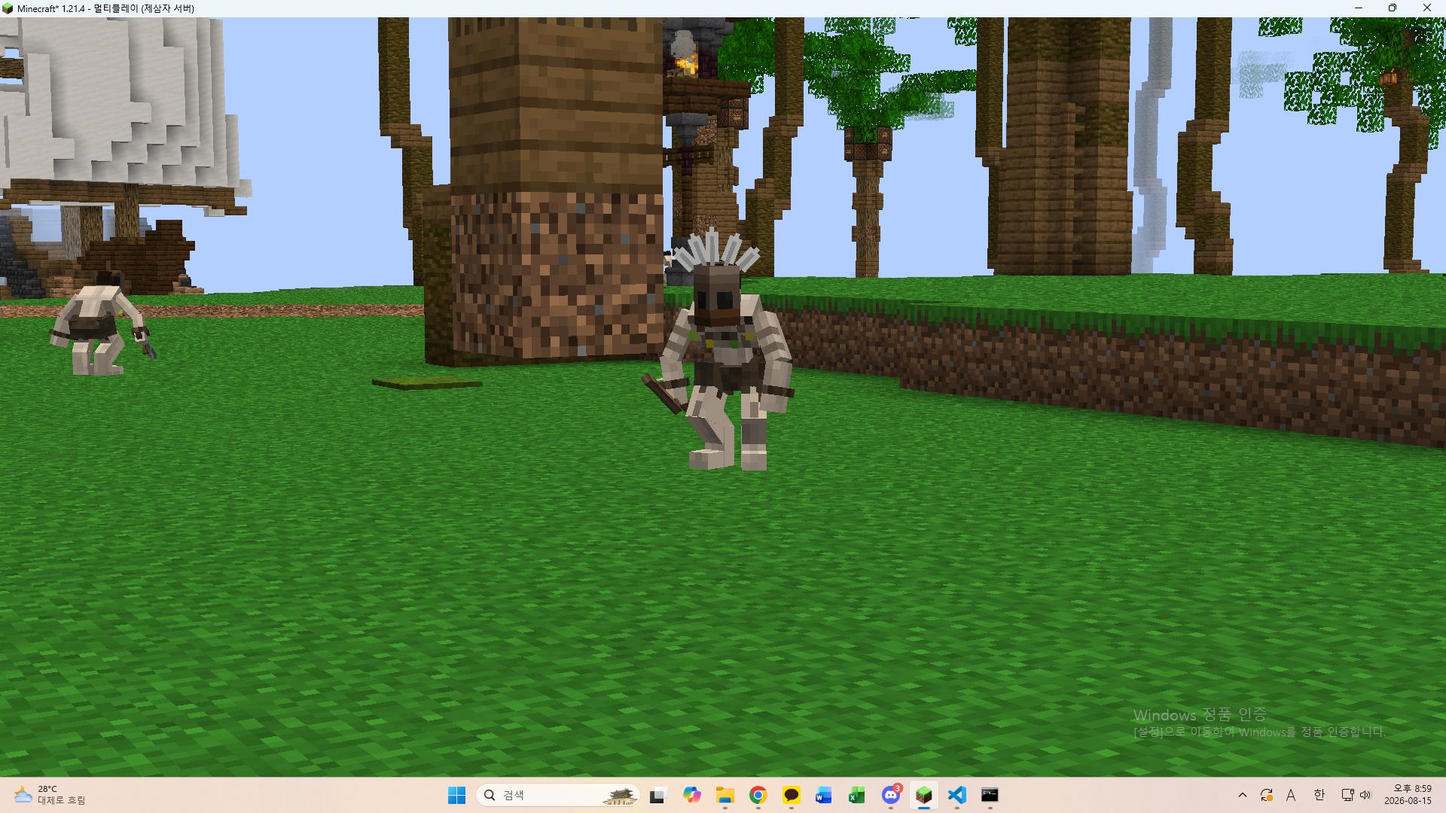bow_indian: (611, 203, 826, 488)
